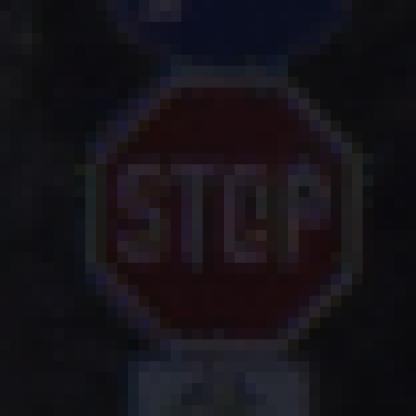stop: (81, 61, 368, 370)
